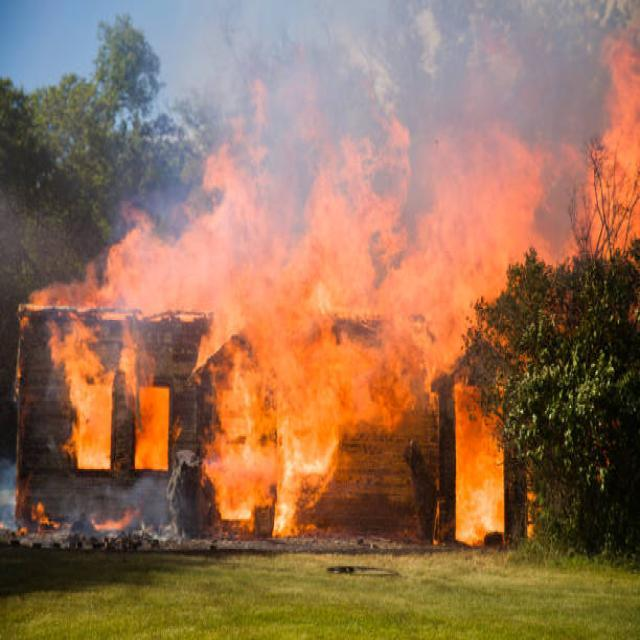Fire: (21, 39, 640, 526)
Smoke: (165, 0, 600, 232)
